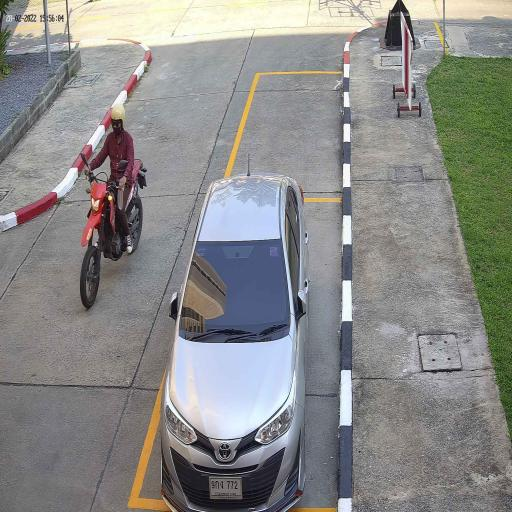car: (158, 173, 312, 512)
motorcycle: (79, 174, 145, 309)
